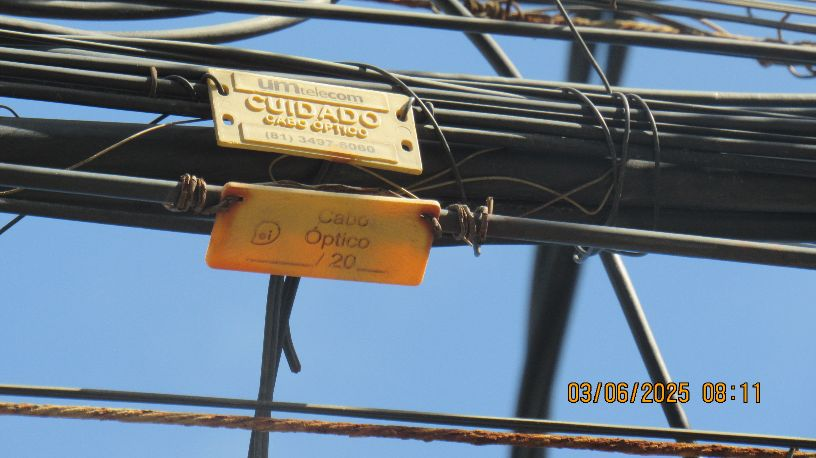fibra_optica: (205, 56, 443, 295)
